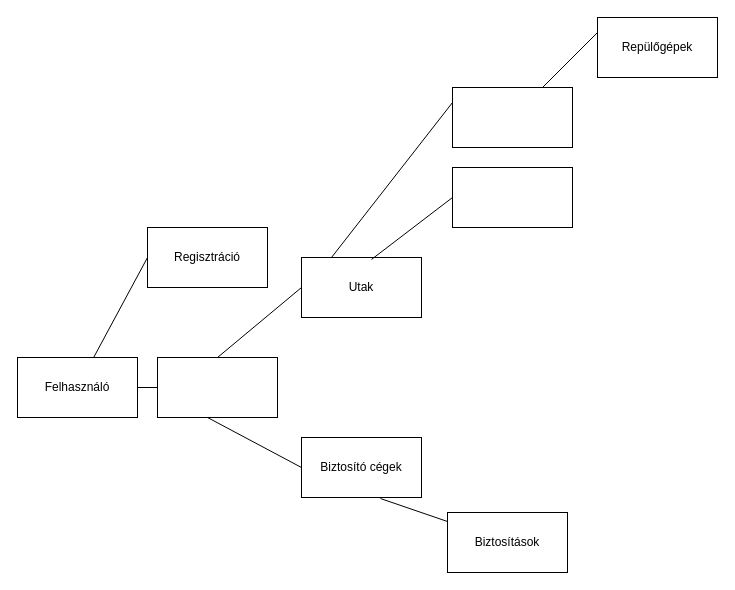
This 735x590 diagram has some shape labels left out. Each missing label, with the box of its shape:
Hotel: (452, 166, 572, 228)
Jegyek: (156, 356, 278, 418)
Légitársaságok: (452, 86, 572, 148)
